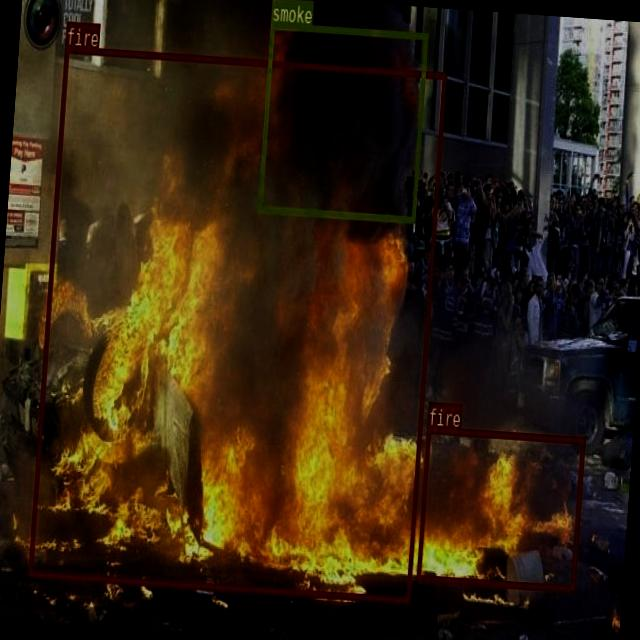fire: (27, 45, 446, 602), (416, 424, 584, 590)
smoke: (257, 21, 428, 222)
